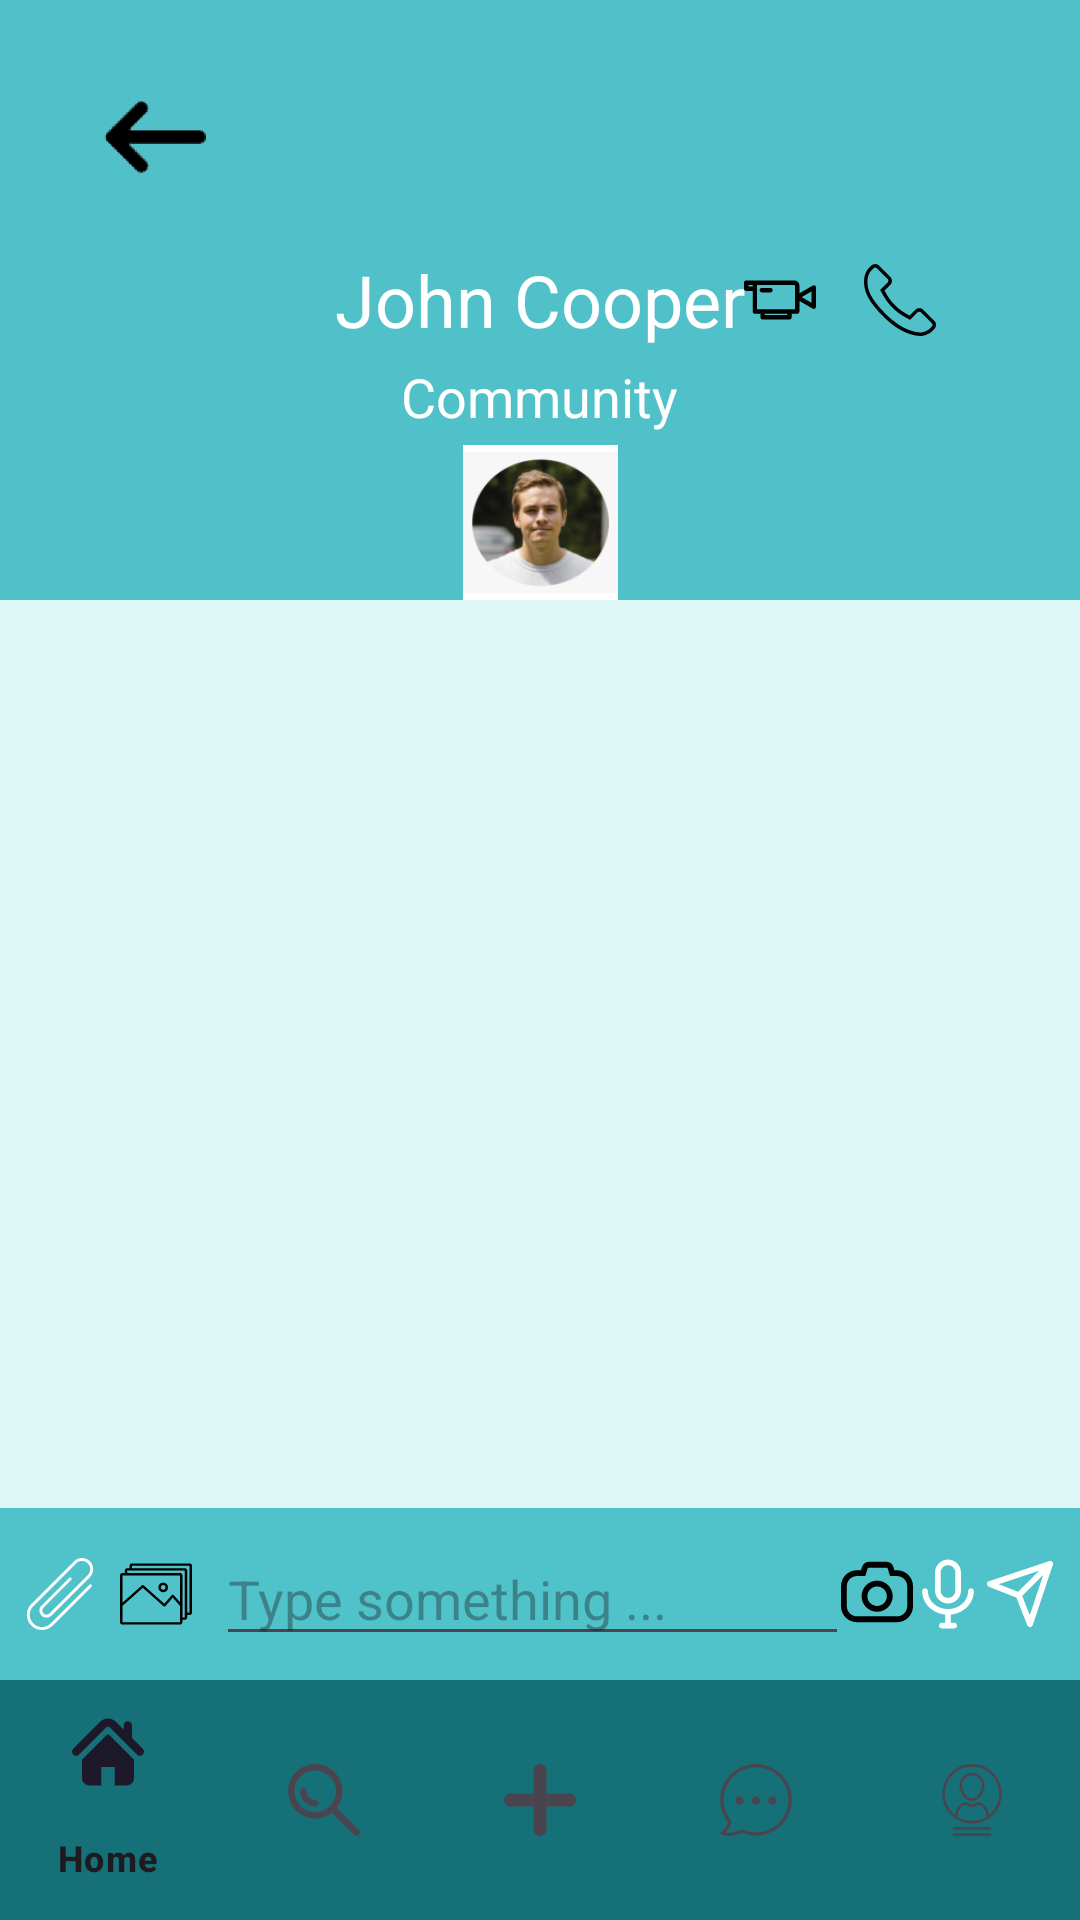

Where to tap for icons on this 1080px x 1920px app screen, as [x,y]:
arrow: [155,137]
attachment: [60,1594]
camera: [877,1592]
gallery: [156,1594]
microphone: [948,1594]
phone: [900,300]
send: [1020,1594]
video: [780,300]
